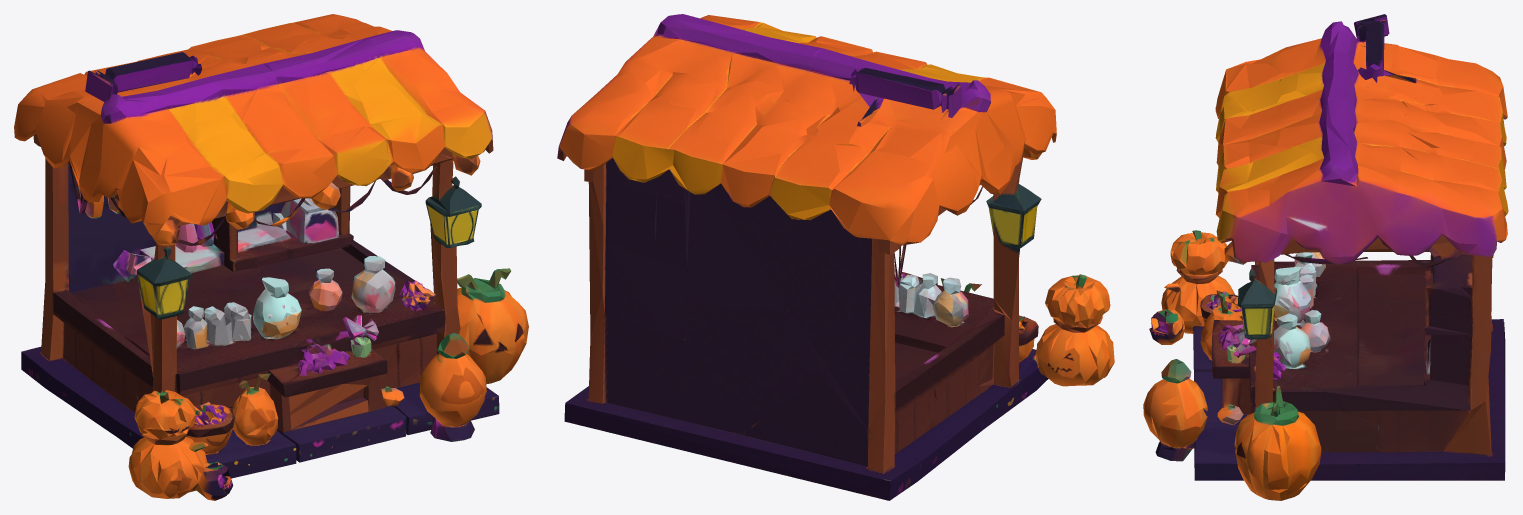
Rendered from hw-shop.glb.
3 views of the same model, side by side, from view 1: azimuth 30°, elevation 25°; view 2: azimuth 150°, elevation 25°; view 3: azimuth 270°, elevation 25° (orthographic). The views are drawn at different scales.
Bounding box in the file's own units: 1.9 × 1.46 × 1.49.
1 material, 1 textured.
